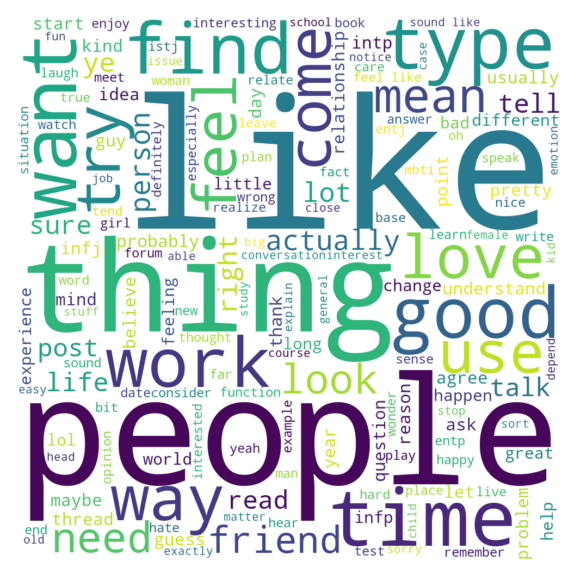

This screenshot's page, from the dashboard's own definition file:
{"tool":"tableau","page":{"name":"Dashboard 1","canvas":[1000,800],"ordinal":0},"visuals":[{"type":"worksheet","title":"Topics","mark":"Automatic","box":[74,14,886,777]},{"type":"worksheet","title":"Topics","mark":"Automatic","param":"[federated.0f70d2m07pqro519ml5wd1i6v16a].[none:type:nk]","box":[10,18,72,40]}]}

Visuals, with their boxes on the page's 1000x800 design canvas (x1, y1, x2, y2). These are canvas units, not pixel positions in the 579x579 screenshot, which may show the page scaled, cropped or inside an application window:
"Topics" worksheet: [x1=74, y1=14, x2=960, y2=791]
"Topics" worksheet: [x1=10, y1=18, x2=82, y2=58]
